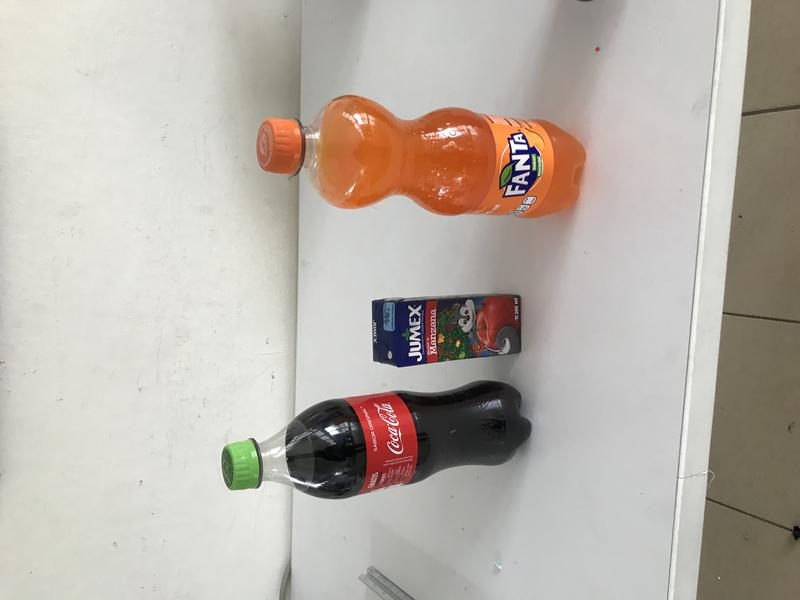coca_cola: (221, 381, 534, 498)
fanta: (257, 94, 587, 217)
jumex_cajita: (372, 293, 522, 367)
